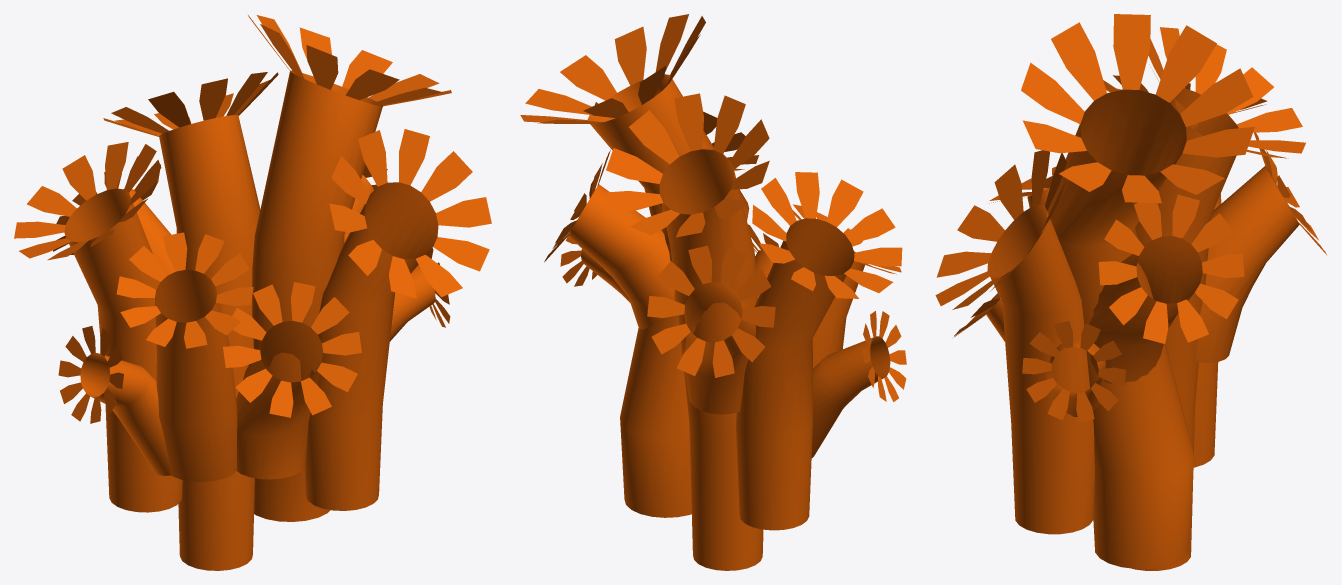
File: coral_1.fbx
3 views of the same model, side by side, from view 1: azimuth 30°, elevation 25°; view 2: azimuth 150°, elevation 25°; view 3: azimuth 270°, elevation 25° (orthographic). The views are drawn at different scales.
Visible parts, largest first — view 1: c4, c1, c2, c9, c8, c3, c5, c6, c7; view 2: c8, c2, c1, c6, c10, c5, c9, c7, c4, c3; view 3: c1, c4, c10, c2, c6, c7, c8, c3.
Part boxes in pixels (x1,y1,x2,y2): c4: [304, 129, 491, 510]; c1: [248, 15, 451, 521]; c2: [103, 72, 278, 570]; c9: [116, 232, 253, 481]; c8: [14, 142, 182, 512]; c3: [223, 282, 361, 479]; c5: [58, 326, 170, 475]; c6: [53, 156, 175, 275]; c7: [389, 248, 450, 341]; c8: [735, 172, 902, 530]; c2: [606, 93, 769, 570]; c1: [520, 14, 749, 517]; c6: [647, 245, 775, 414]; c10: [544, 150, 674, 329]; c5: [811, 311, 906, 457]; c9: [792, 204, 901, 368]; c7: [560, 231, 630, 302]; c4: [594, 102, 758, 215]; c3: [748, 224, 778, 298]; c1: [1021, 14, 1254, 568]; c4: [935, 150, 1094, 534]; c10: [1089, 194, 1244, 383]; c2: [1132, 27, 1305, 570]; c6: [1195, 132, 1326, 362]; c7: [1022, 321, 1125, 422]; c8: [1103, 75, 1267, 467]; c3: [953, 293, 1004, 341].
Bounding box in the file's own units: 312 × 399 × 251.
